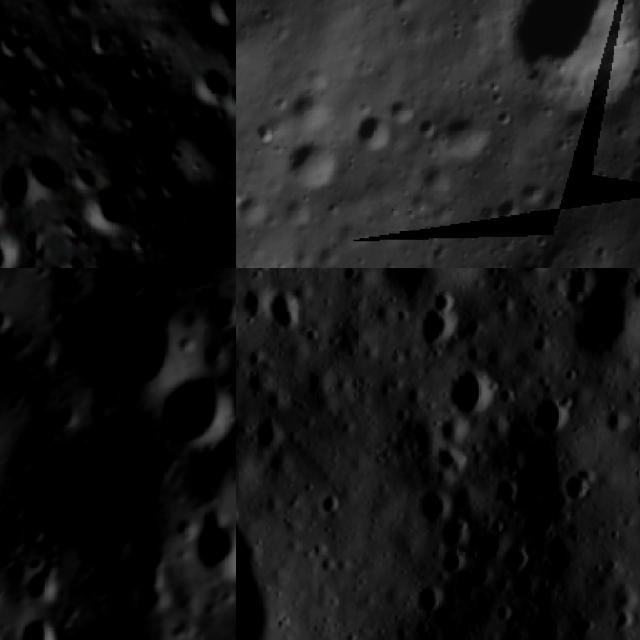crater: (486, 0, 640, 125), (61, 291, 190, 393), (64, 426, 176, 532), (147, 370, 236, 453), (65, 172, 144, 246), (275, 130, 350, 200), (430, 104, 503, 170), (444, 365, 504, 429), (190, 509, 236, 583), (178, 52, 236, 110), (21, 142, 76, 202), (412, 288, 462, 354), (258, 286, 310, 348), (350, 108, 405, 164), (528, 384, 577, 442), (150, 152, 198, 205), (554, 466, 600, 520), (0, 13, 39, 73), (183, 0, 236, 44), (138, 550, 179, 605), (512, 168, 558, 216), (18, 555, 63, 603), (485, 245, 574, 268), (412, 484, 456, 530), (500, 534, 542, 580), (246, 415, 289, 457), (408, 579, 449, 622), (486, 194, 526, 236), (409, 106, 446, 146), (434, 544, 471, 582), (16, 612, 64, 640), (440, 513, 471, 548), (616, 151, 640, 195), (316, 488, 342, 522), (209, 290, 236, 322), (24, 509, 50, 540), (336, 268, 362, 291), (0, 301, 15, 334), (246, 268, 279, 281), (236, 501, 245, 527)
